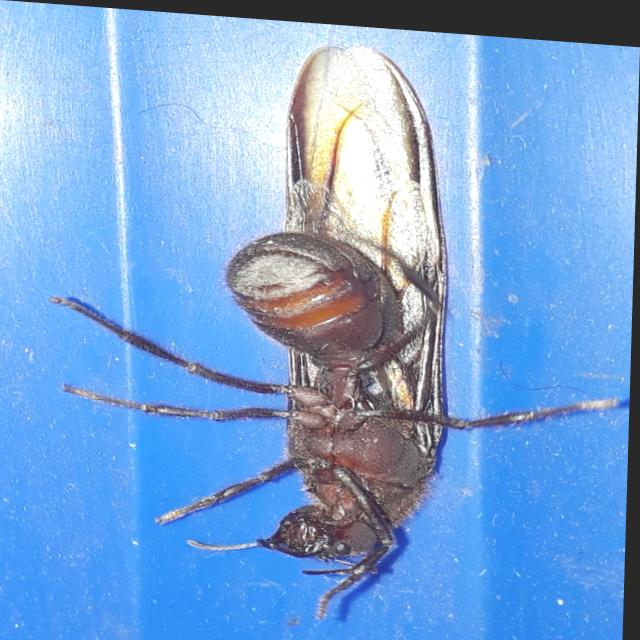Alive-Female-Alate: (42, 20, 629, 638)
